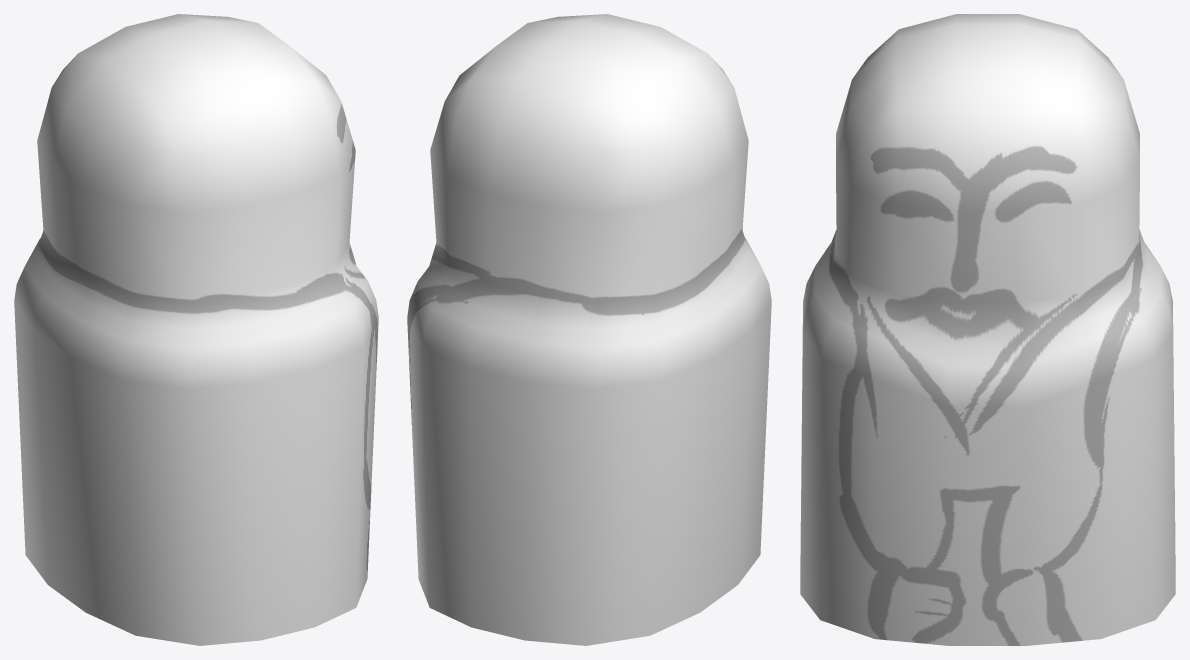
The model's file is BalbalStone.fbx.
3 views of the same model, side by side, from view 1: azimuth 30°, elevation 25°; view 2: azimuth 150°, elevation 25°; view 3: azimuth 270°, elevation 25° (orthographic). The views are drawn at different scales.
Visible parts, largest first — view 1: Cube; view 2: Cube; view 3: Cube.
Boxes of the visible parts, box(x1,y1,x2,y2) form: Cube: box(14, 14, 378, 645); Cube: box(407, 14, 771, 645); Cube: box(800, 14, 1175, 645).
Size of the model in its own units: 223 by 394 by 247.
